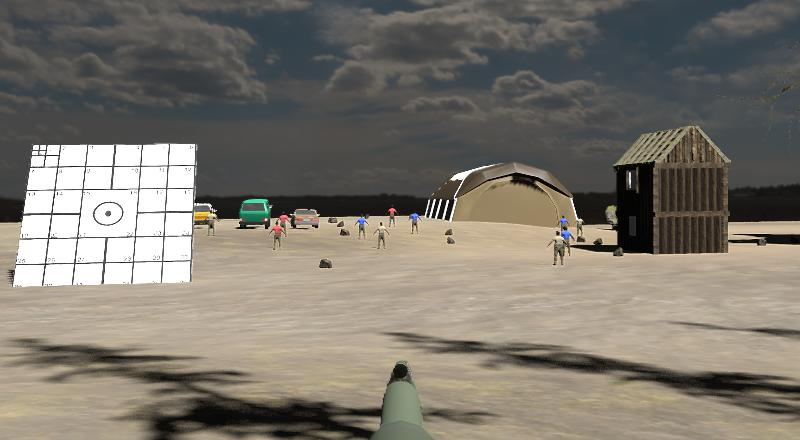House: (614, 125, 731, 254)
Human: (546, 228, 567, 267), (268, 219, 287, 252), (373, 221, 389, 250), (561, 226, 575, 258), (354, 214, 369, 241), (408, 211, 421, 235), (386, 204, 399, 227), (278, 209, 290, 231), (206, 216, 218, 237), (576, 216, 586, 240)
car: (238, 198, 272, 228), (188, 203, 216, 225), (291, 207, 320, 228)
